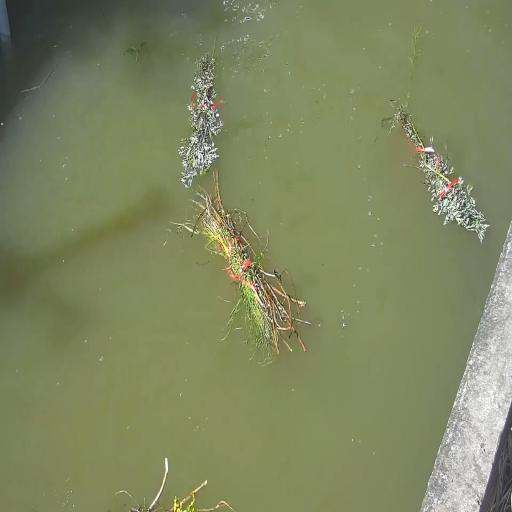twig: (179, 171, 308, 356), (382, 104, 489, 242), (178, 38, 223, 188), (149, 457, 168, 511)
